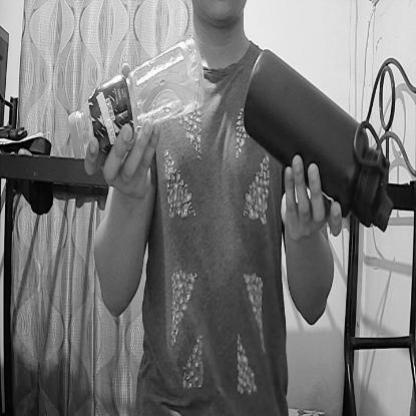Plastic Bottle: (60, 40, 208, 187)
